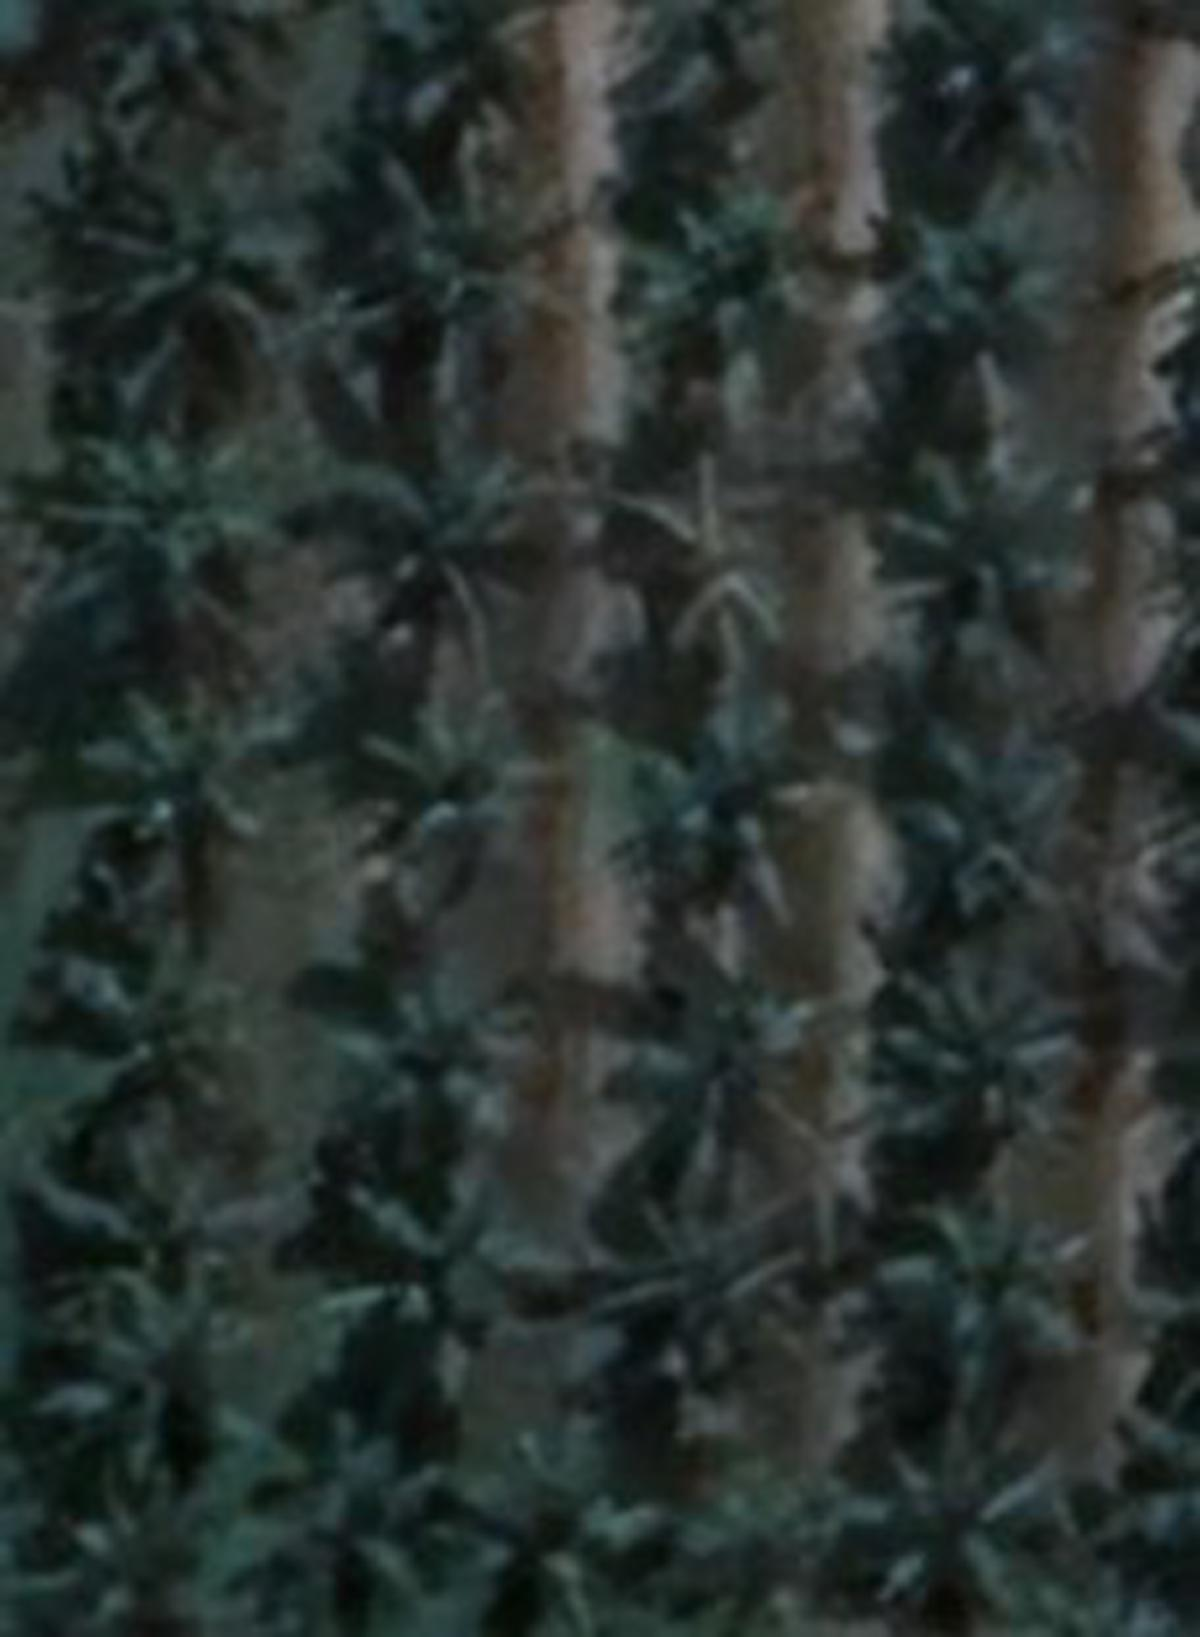coconut: (322, 669, 594, 905), (336, 131, 622, 347), (331, 421, 542, 679), (852, 1409, 1084, 1637), (31, 1104, 268, 1326), (594, 921, 810, 1146), (600, 1146, 815, 1368), (857, 1190, 1094, 1389), (72, 663, 305, 863), (453, 1415, 657, 1637), (57, 421, 283, 622), (72, 136, 305, 330), (878, 947, 1084, 1163), (342, 957, 557, 1163), (325, 1163, 542, 1368), (889, 215, 1100, 421), (31, 921, 247, 1121), (625, 447, 821, 663), (878, 721, 1094, 915), (652, 679, 847, 888), (636, 200, 831, 400), (878, 436, 1068, 642), (878, 5, 1089, 173), (268, 1415, 436, 1615), (64, 1484, 263, 1637)
